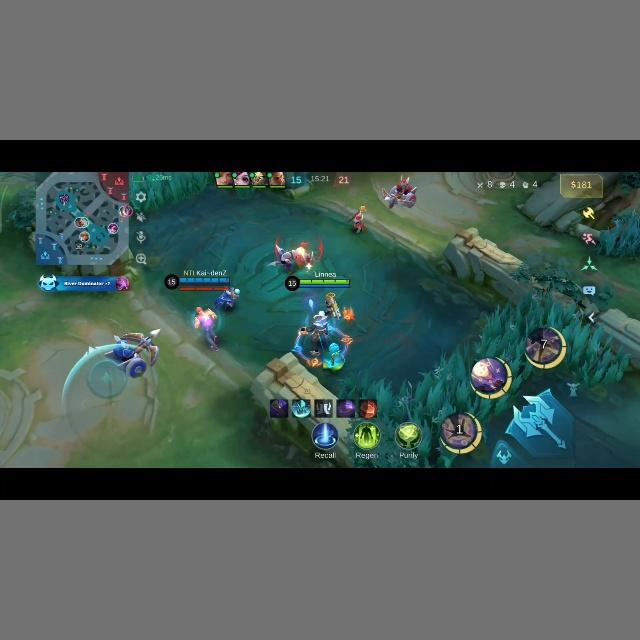hp_self: (162, 272, 232, 290), (299, 278, 352, 286)
minion_ally: (109, 332, 161, 378), (194, 307, 222, 351), (215, 288, 238, 314)
minion_enemy: (379, 174, 417, 208), (274, 242, 315, 270), (350, 208, 366, 233)
